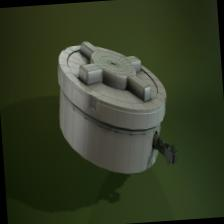PMN2: (38, 5, 196, 210)
